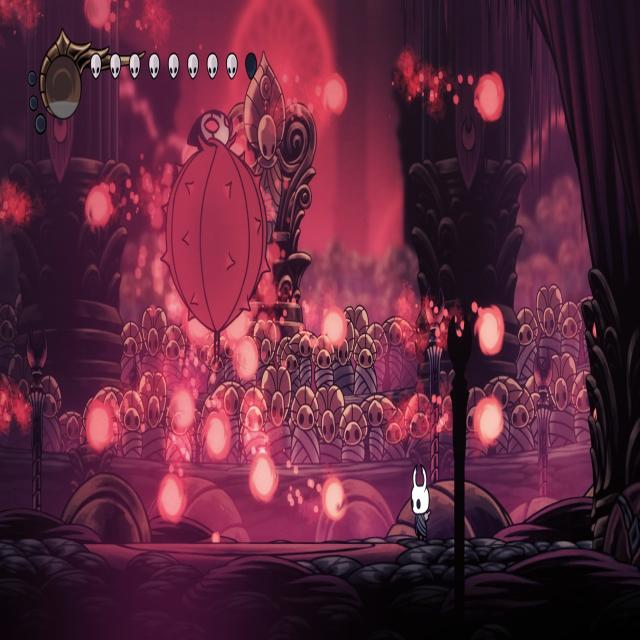Player: (409, 459, 436, 542)
Pufferfish: (157, 106, 274, 366)
Tiny Fireballs: (86, 399, 115, 452), (158, 472, 186, 522), (476, 74, 504, 124), (250, 454, 279, 502), (475, 396, 503, 445), (477, 306, 504, 354), (204, 413, 230, 462), (86, 183, 113, 230), (234, 338, 260, 383), (170, 388, 196, 432), (323, 309, 348, 351), (322, 74, 346, 116), (322, 478, 345, 520), (85, 0, 113, 30)
